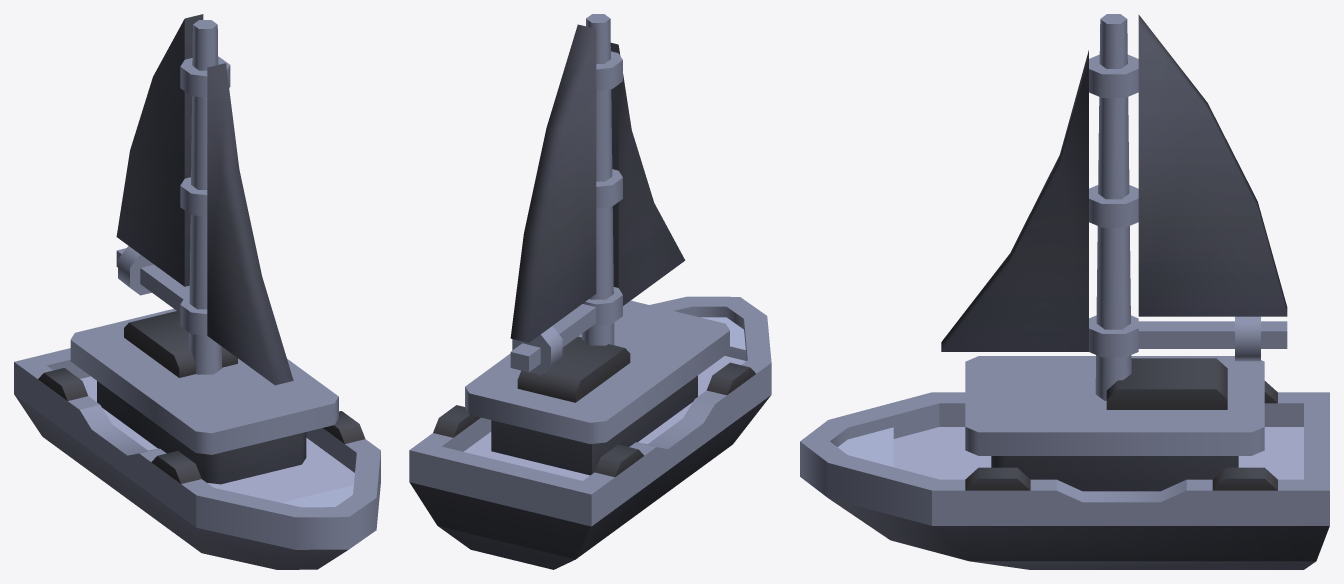
File: boat-sail-b-transformed.glb
3 views of the same model, side by side, from view 1: azimuth 30°, elevation 25°; view 2: azimuth 150°, elevation 25°; view 3: azimuth 270°, elevation 25° (orthographic). The views are drawn at different scales.
Visible parts, largest first — view 1: boat-sail-b; view 2: boat-sail-b; view 3: boat-sail-b.
Boxes of the visible parts, left/top/right/bottom form: boat-sail-b: left=14, top=14, right=380, bottom=569; boat-sail-b: left=409, top=14, right=771, bottom=569; boat-sail-b: left=800, top=14, right=1329, bottom=569.
Size of the model in its own units: 1.78 by 4.48 by 4.07.
Materials: 1 (1 with a texture image).
